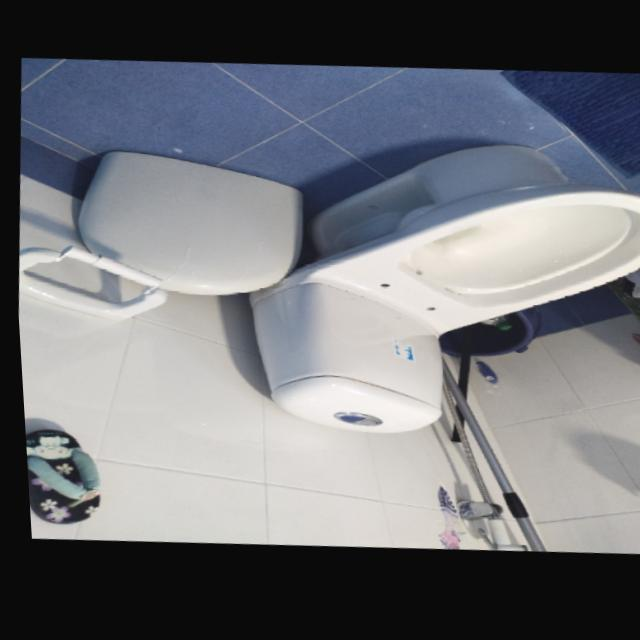toilet: (228, 126, 640, 461)
